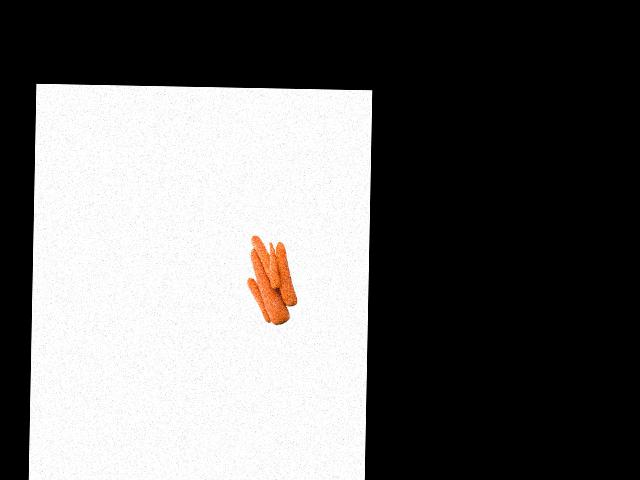carrot: (278, 239, 295, 309)
